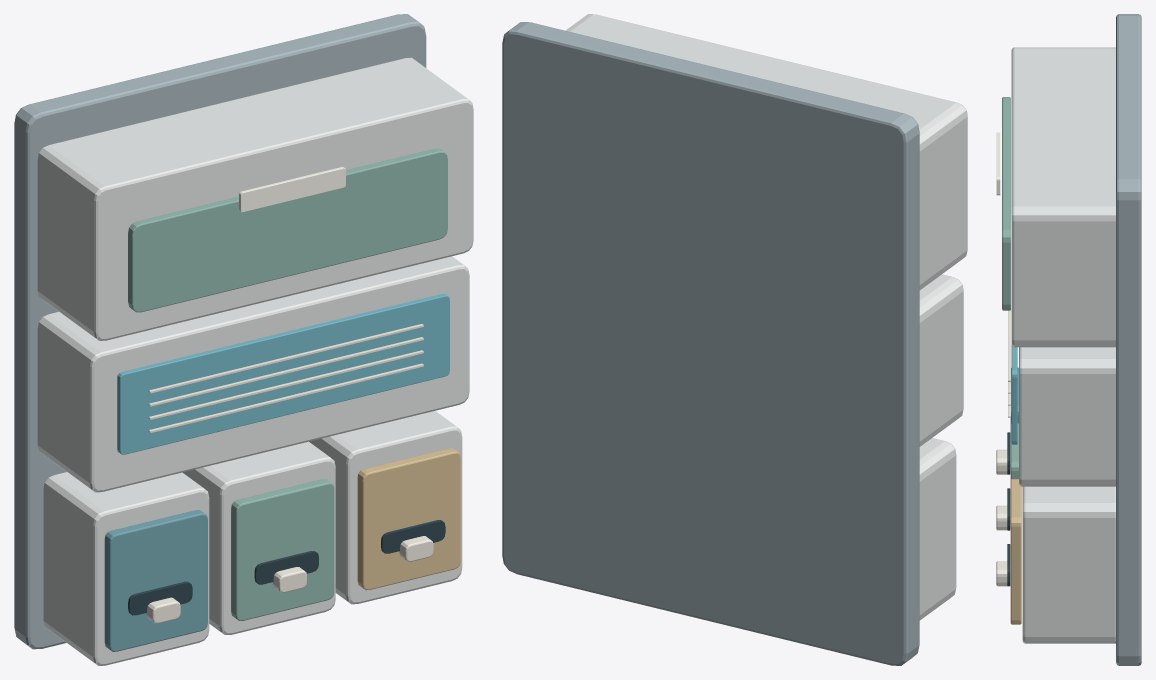
Rendered from wall-ppe-dispenser.glb.
The picture shows the model from 3 angles, left to right: view 1: azimuth 30°, elevation 25°; view 2: azimuth 150°, elevation 25°; view 3: azimuth 270°, elevation 25°; orthographic projection. The views are drawn at different scales.
Visible parts, largest first — view 1: wall-ppe-dispenser-batch (×4), wall-ppe-dispenser, wall-mounting-plate; view 2: wall-mounting-plate, wall-ppe-dispenser-batch; view 3: wall-ppe-dispenser-batch (×4), wall-mounting-plate, wall-ppe-dispenser.
Part boxes in pixels (<box>): wall-ppe-dispenser-batch (×4): <box>37,57,473,665</box>; wall-ppe-dispenser: <box>104,167,460,651</box>; wall-mounting-plate: <box>14,14,426,649</box>; wall-mounting-plate: <box>502,22,919,665</box>; wall-ppe-dispenser-batch: <box>565,14,967,620</box>; wall-ppe-dispenser-batch (×4): <box>996,47,1115,643</box>; wall-mounting-plate: <box>1116,14,1141,665</box>; wall-ppe-dispenser: <box>996,132,1021,624</box>.
Size of the model in its own units: 0.57 by 0.73 by 0.1985.
